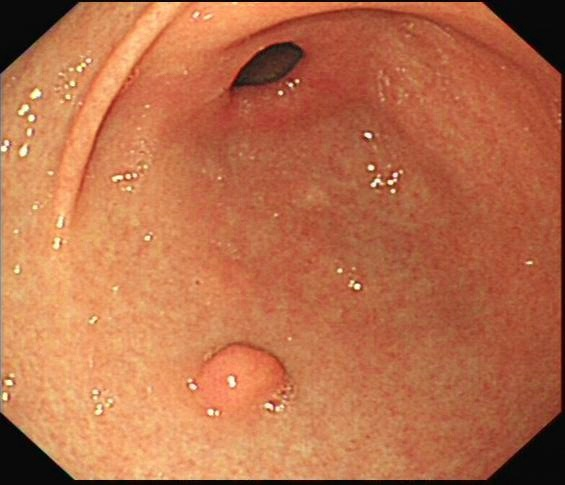Polyp: (183, 332, 302, 417)
